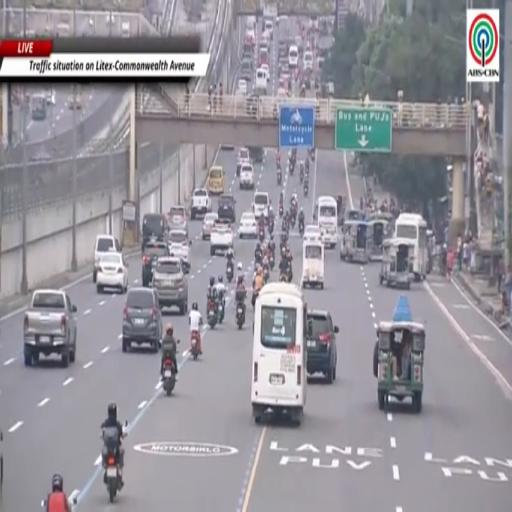bus: (252, 283, 307, 423), (394, 214, 428, 281), (316, 197, 338, 248)
car: (122, 287, 162, 353), (307, 310, 338, 383), (153, 256, 187, 314), (96, 251, 128, 293), (93, 235, 121, 282), (142, 240, 169, 286), (168, 230, 191, 273), (142, 214, 168, 250), (210, 220, 233, 255), (191, 188, 211, 219), (168, 205, 187, 231), (218, 195, 236, 222), (239, 212, 257, 238), (253, 191, 270, 218), (239, 163, 255, 190), (202, 213, 218, 239), (237, 148, 250, 177), (246, 93, 259, 119), (303, 224, 321, 242), (240, 58, 253, 82), (67, 93, 83, 110), (249, 147, 264, 163), (261, 64, 269, 83), (237, 79, 247, 94)
jeepney: (373, 296, 425, 412), (379, 238, 413, 289), (340, 221, 372, 263), (367, 212, 392, 261), (427, 230, 435, 274), (346, 210, 365, 220)
motorcycle: (101, 427, 121, 503), (162, 358, 176, 395), (206, 298, 218, 328), (190, 331, 199, 360), (236, 301, 245, 329), (218, 297, 224, 324), (254, 253, 262, 270), (68, 496, 77, 511), (227, 262, 233, 282), (258, 226, 265, 243), (252, 291, 258, 309), (268, 219, 274, 235), (303, 182, 309, 198), (264, 265, 269, 283), (290, 215, 296, 229), (277, 169, 282, 185), (270, 254, 275, 269), (299, 222, 304, 237), (289, 162, 294, 175), (280, 274, 288, 282), (279, 203, 283, 217), (300, 169, 303, 183)
truck: (24, 290, 76, 367)
